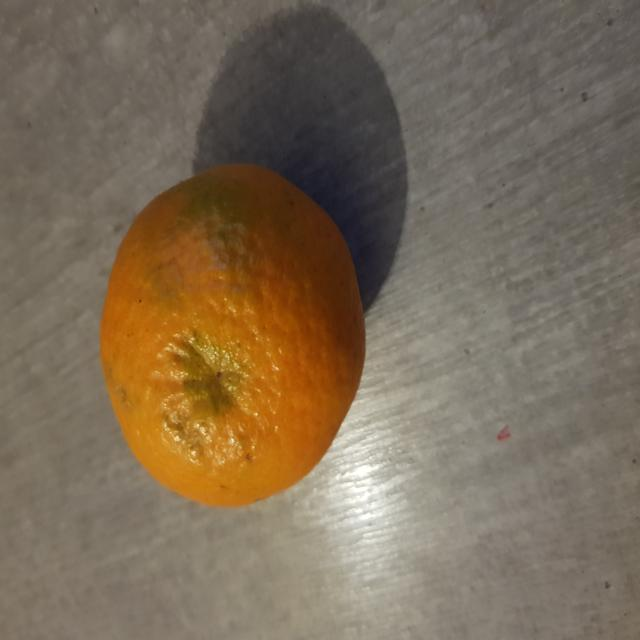Orange: (98, 164, 367, 511)
